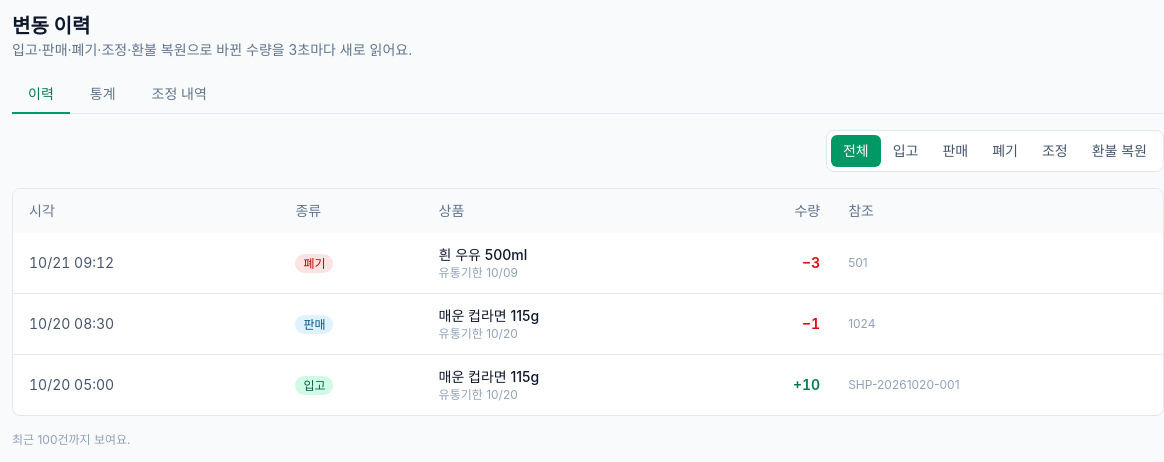
it: 재고 변동 이력 (S-13) › 조정 내역 탭으로 바꾸면 조정 이력을 부른다 (S-14)
Click the tab "조정 내역".
click(179, 95)  # box x1=136 y1=76 x2=223 y2=114
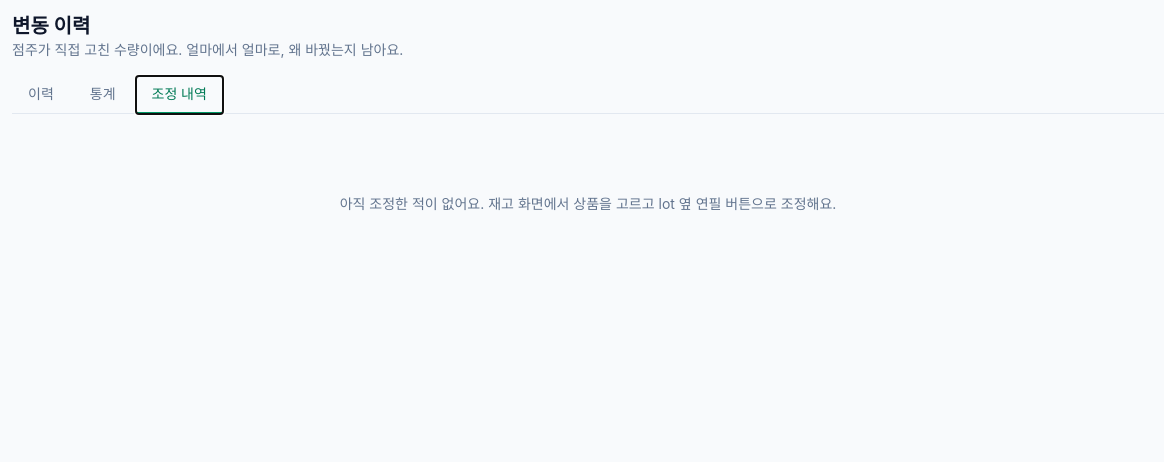
Now the text "아직 조정한 적이 없어요. 재고 화면에서 상품을 고르고 lot 옆 연필 버튼으로 조정해요." is shown, box x1=340 y1=195 x2=836 y2=212
